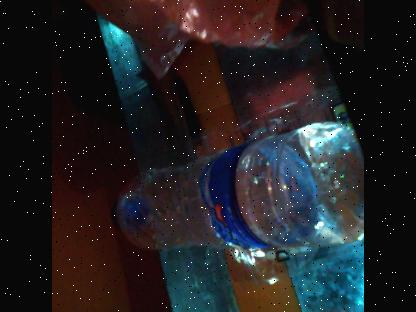Plastic Bottle: (112, 116, 364, 250)
